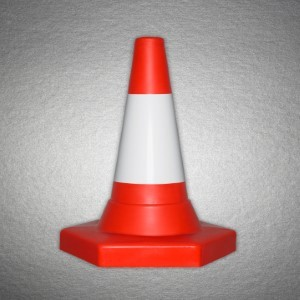traffic cone: (60, 36, 237, 268)
